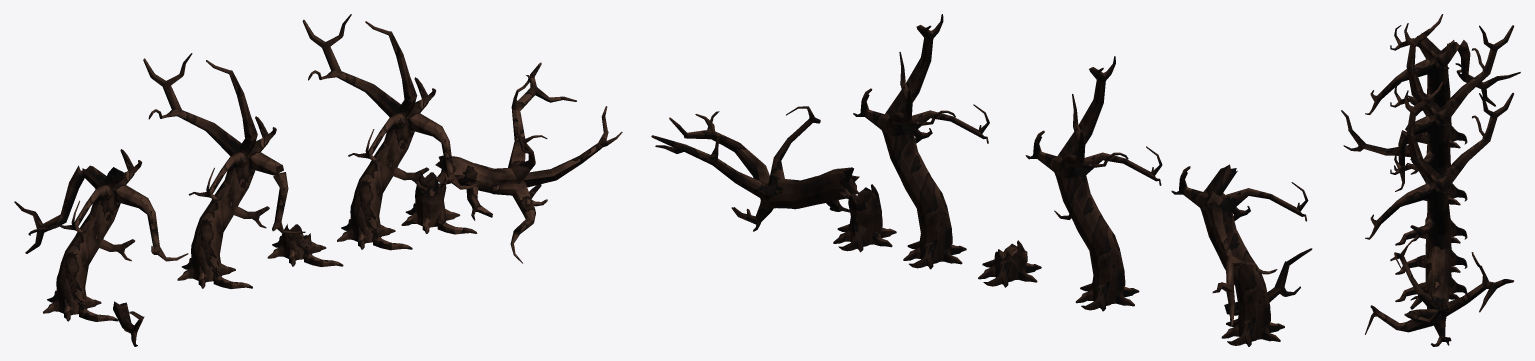
File: Arvores_Atuais_Arrumadas.fbx
3 views of the same model, side by side, from view 1: azimuth 30°, elevation 25°; view 2: azimuth 150°, elevation 25°; view 3: azimuth 270°, elevation 25° (orthographic). The views are drawn at different scales.
Visible parts, largest first — view 1: Circle.005, Circle.002, Circle.006, Circle.003, Circle.004; view 2: Circle.003, Circle.002, Circle.005, Circle.006, Circle.004; view 3: Circle.002, Circle.003, Circle.005, Circle.006, Circle.004.
Boxes of the visible parts, x1,y1,x2,y2 form: Circle.005: (143,53,305,288); Circle.002: (302,14,482,250); Circle.006: (14,149,188,346); Circle.003: (401,62,622,263); Circle.004: (267,224,343,266); Circle.003: (651,106,896,252); Circle.002: (853,14,989,269); Circle.005: (1025,56,1162,311); Circle.006: (1171,164,1312,346); Circle.004: (978,240,1041,287); Circle.002: (1365,81,1513,274); Circle.003: (1365,241,1513,346); Circle.005: (1390,14,1514,206); Circle.006: (1341,25,1520,157); Circle.004: (1395,217,1467,245).
Bounding box in the file's own units: 4225 × 1678 × 1330.
Materials: 2 (2 with a texture image).
